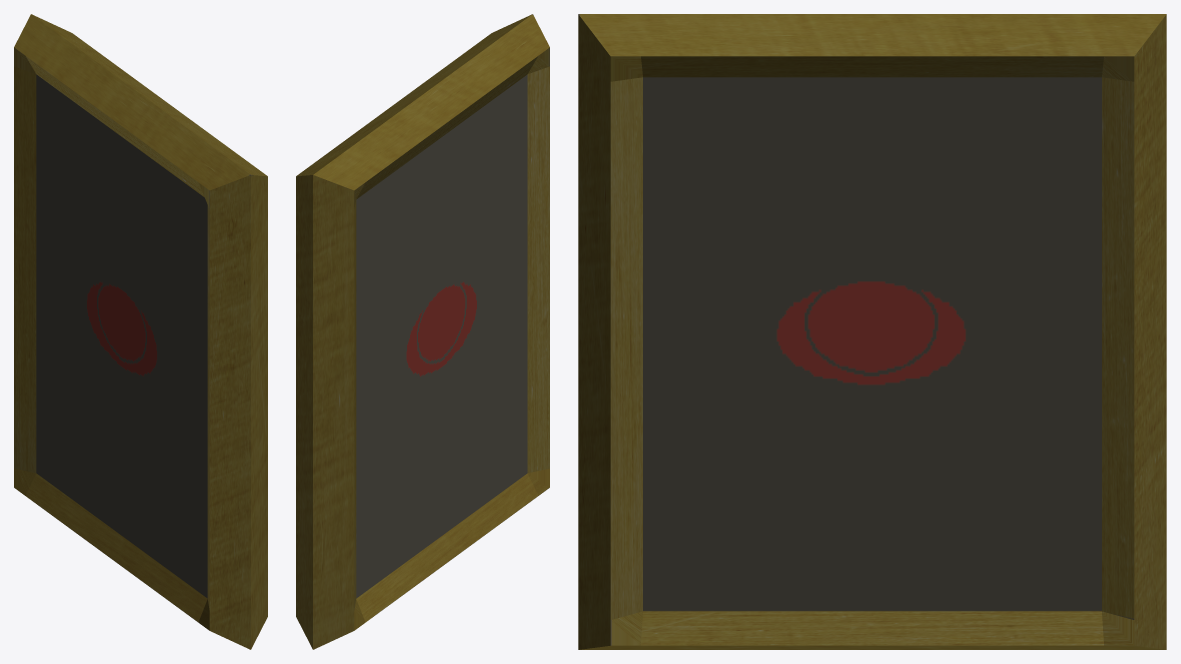
The model's file is pictureFrame.obj.
3 renders of one model, left to right at view 1: azimuth 30°, elevation 25°; view 2: azimuth 150°, elevation 25°; view 3: azimuth 270°, elevation 25°, orthographic. The views are drawn at different scales.
Parts seen in each view (by area): view 1: Cube; view 2: Cube; view 3: Cube.
Part boxes in pixels (x1,y1,x2,y2): Cube: (14, 14, 267, 649); Cube: (296, 14, 549, 649); Cube: (578, 14, 1166, 649).
Bounding box in the file's own units: 0.5537 × 4.31 × 3.62.
1 material, 1 textured.
